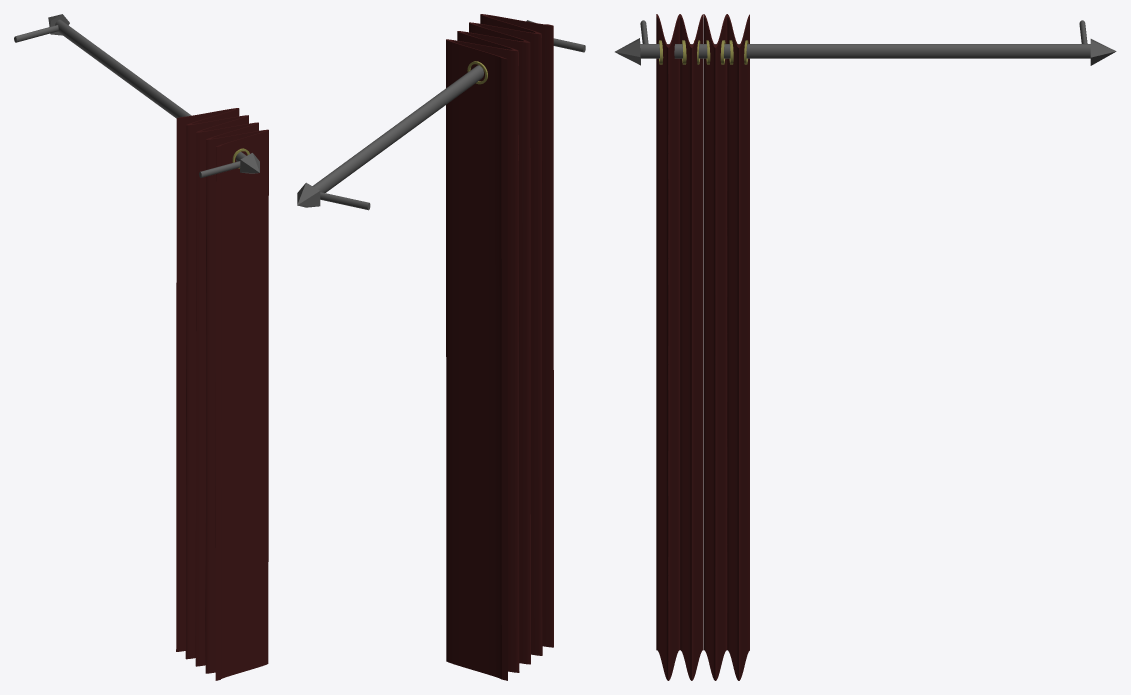
Rendered from Kurtina.fbx.
3 views of the same model, side by side, from view 1: azimuth 30°, elevation 25°; view 2: azimuth 150°, elevation 25°; view 3: azimuth 270°, elevation 25° (orthographic). The views are drawn at different scales.
Parts seen in each view (by area): view 1: sweep2, sweep1, pCylinder1; view 2: sweep1, sweep2, pCylinder1, pPyramid2; view 3: sweep2, sweep1, pCylinder1.
Part boxes in pixels (x1=…): sweep2: x1=196, y1=122, x2=268, y2=680; sweep1: x1=176, y1=108, x2=248, y2=665; pCylinder1: x1=55, y1=19, x2=246, y2=161; sweep1: x1=446, y1=31, x2=530, y2=680; sweep2: x1=469, y1=14, x2=553, y2=655; pCylinder1: x1=312, y1=65, x2=483, y2=192; pPyramid2: x1=297, y1=182, x2=320, y2=207; sweep2: x1=656, y1=14, x2=702, y2=680; sweep1: x1=703, y1=14, x2=749, y2=680; pCylinder1: x1=640, y1=44, x2=1090, y2=58.
Bounding box in the file's own units: 1.44 × 9.29 × 6.67.
